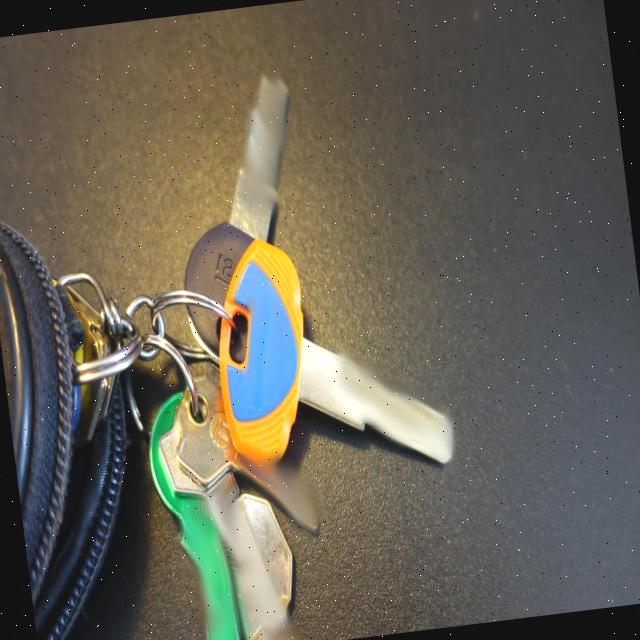Frontdoor keys: (205, 234, 458, 472), (153, 58, 310, 356), (165, 357, 322, 550)
